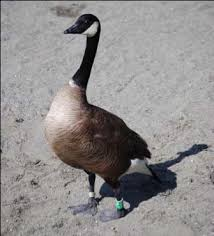goose: (43, 13, 165, 220)
